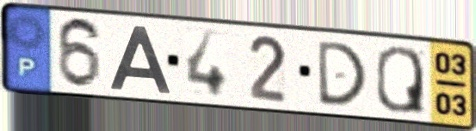2: (247, 33, 289, 106)
4: (184, 28, 233, 101)
6: (54, 14, 108, 91)
A: (107, 23, 175, 96)
D: (315, 38, 370, 107)
Q: (373, 43, 428, 116)
